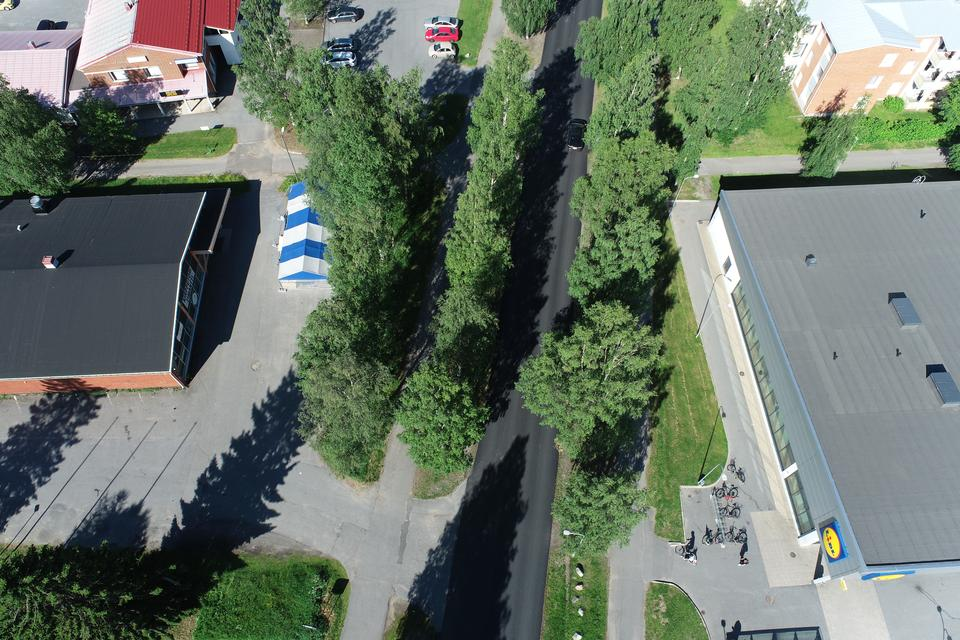intersection: (324, 453, 583, 640)
